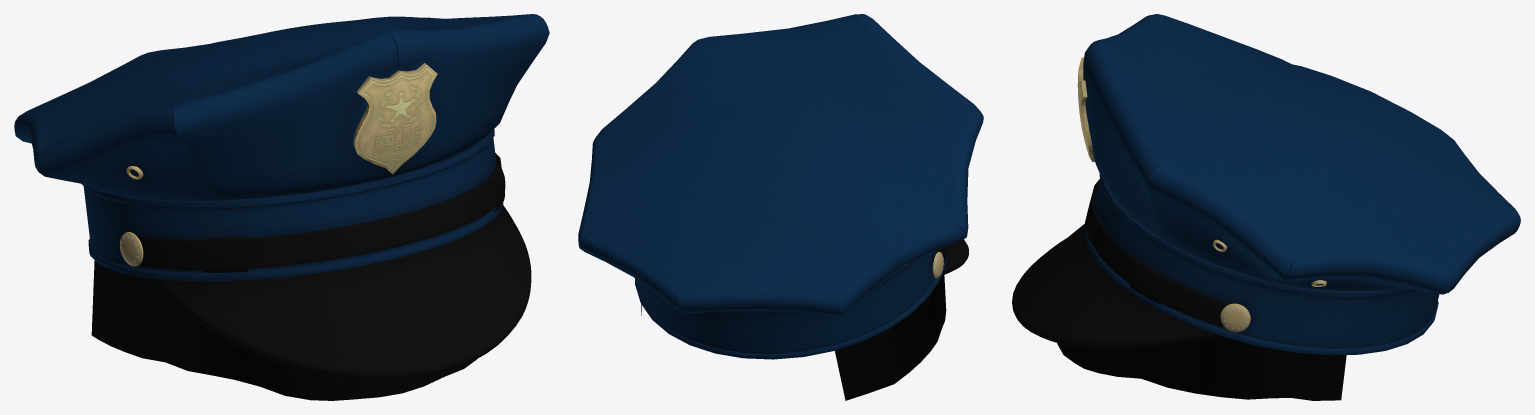
The model's file is policeman.fbx.
3 views of the same model, side by side, from view 1: azimuth 30°, elevation 25°; view 2: azimuth 150°, elevation 25°; view 3: azimuth 270°, elevation 25° (orthographic). The views are drawn at different scales.
Parts seen in each view (by area): view 1: PoliceCap, Shadow4; view 2: PoliceCap, Shadow4; view 3: PoliceCap, Shadow4.
Part boxes in pixels (x1,y1,x2,y2): PoliceCap: (14, 14, 549, 379); Shadow4: (91, 260, 476, 400); PoliceCap: (578, 14, 983, 359); Shadow4: (641, 275, 946, 400); PoliceCap: (1012, 14, 1520, 355); Shadow4: (1057, 211, 1346, 400).
Bounding box in the file's own units: 256 × 182 × 266.
